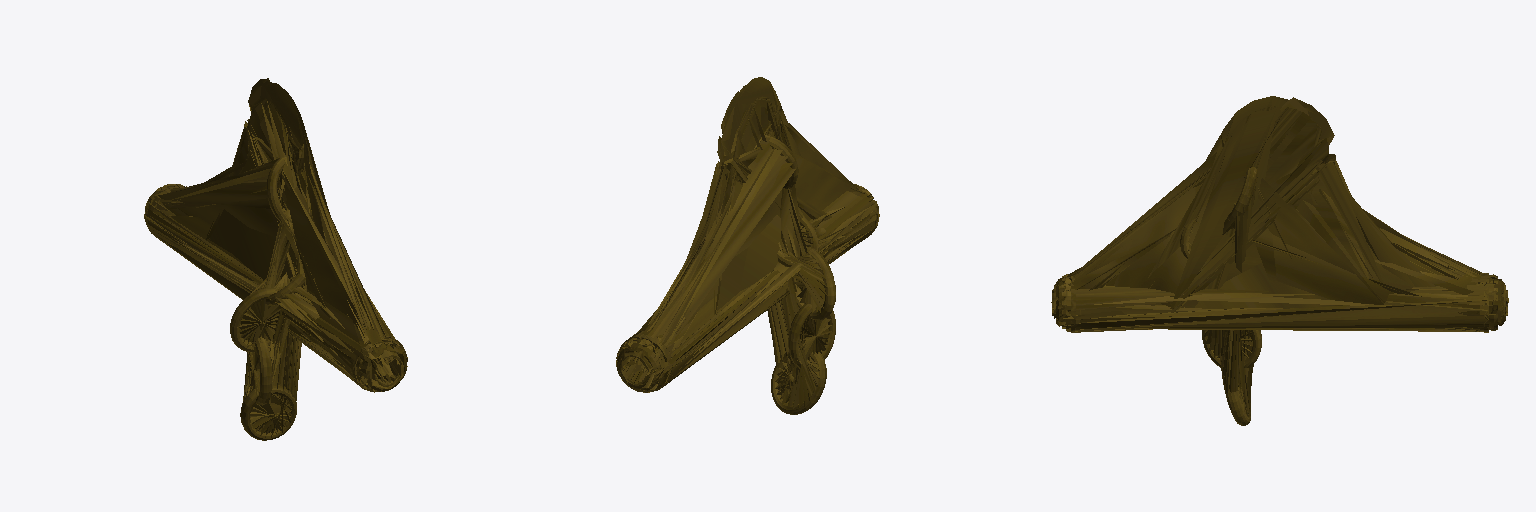
3 renders of one model, left to right at view 1: azimuth 30°, elevation 25°; view 2: azimuth 150°, elevation 25°; view 3: azimuth 270°, elevation 25°, orthographic.
Parts seen in each view (by area): view 1: Anchor, Chain; view 2: Anchor, Chain; view 3: Anchor, Chain.
Boxes of the visible parts, x1,y1,x2,y2 form: Anchor: [144, 78, 407, 437]; Chain: [230, 155, 305, 440]; Anchor: [616, 77, 879, 409]; Chain: [765, 135, 835, 414]; Anchor: [1051, 96, 1508, 417]; Chain: [1180, 167, 1261, 425].
Size of the model in its own units: 57.81 by 204 by 250.
Materials: 1 (1 with a texture image).